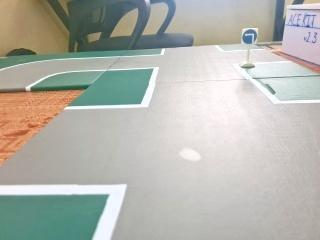left: (241, 28, 260, 46)
